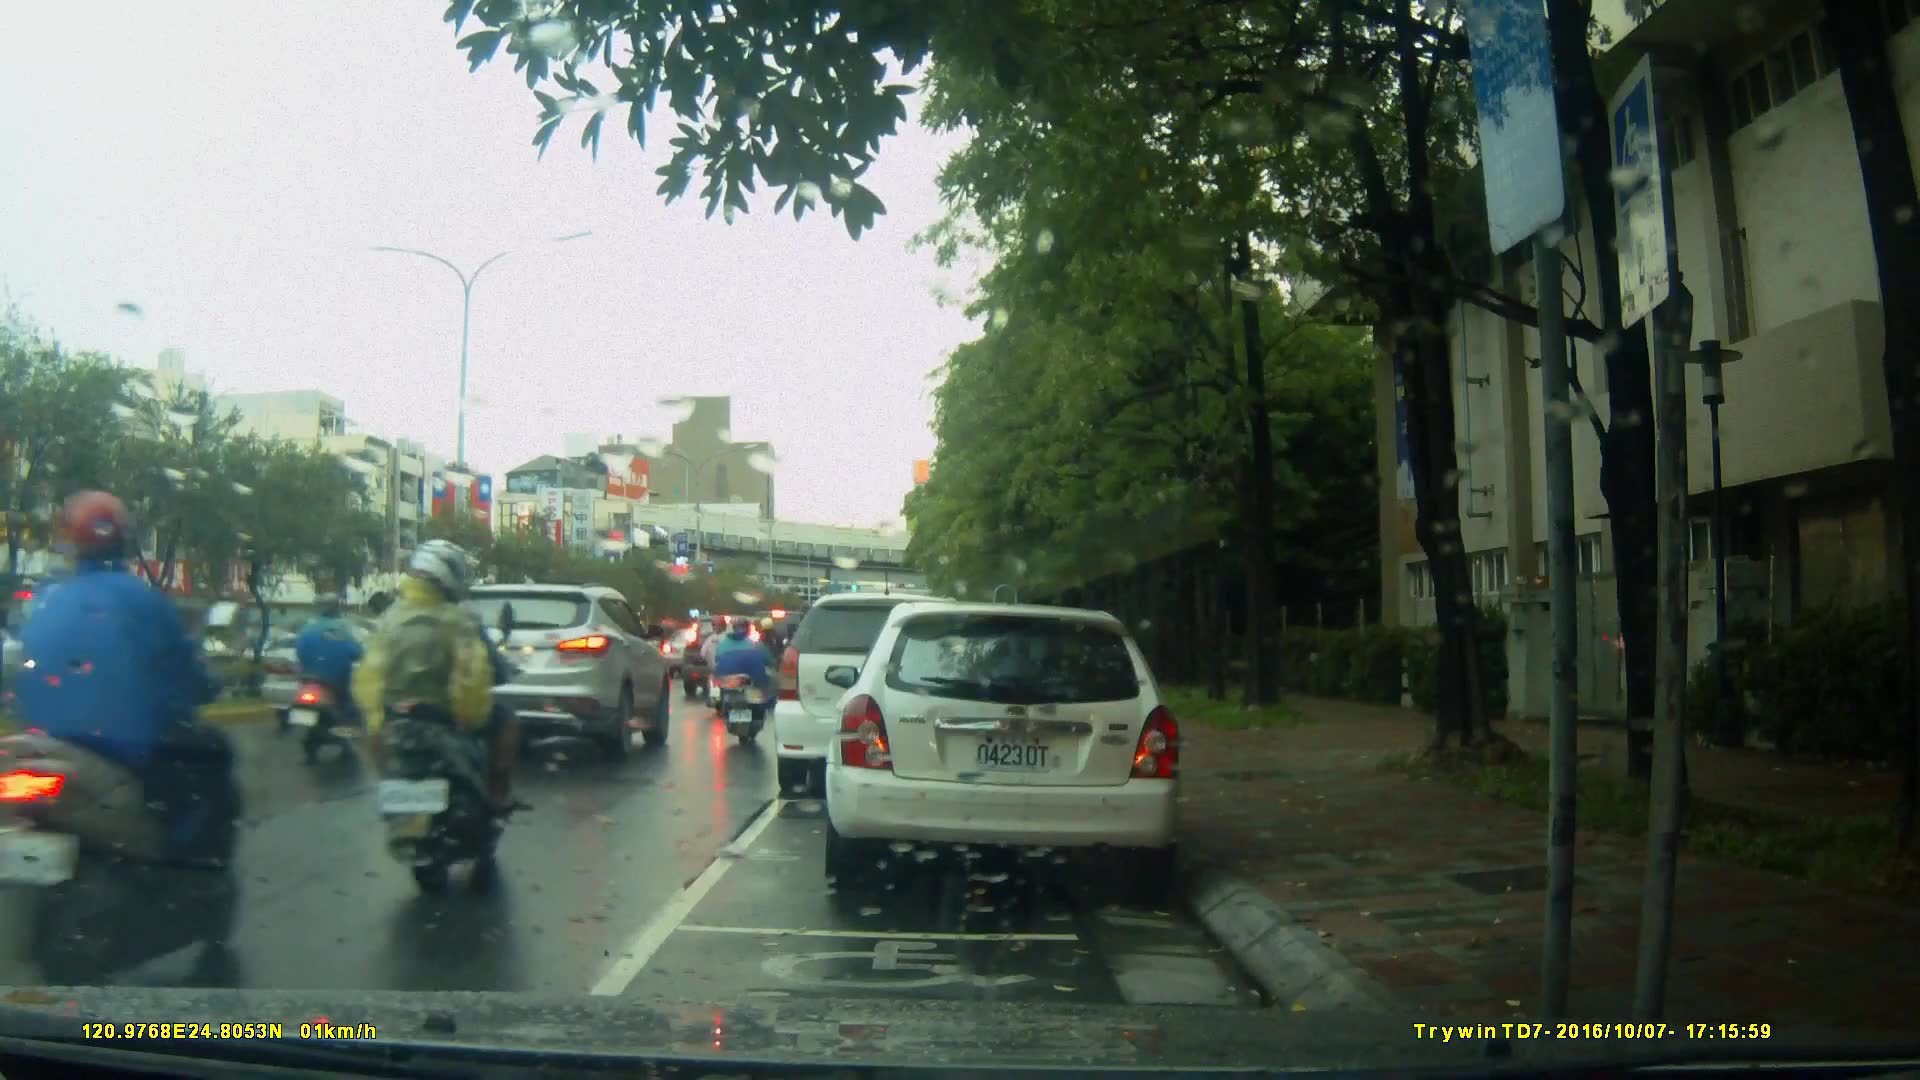rider: (1, 488, 239, 1028), (363, 542, 523, 883), (284, 583, 378, 767), (713, 613, 780, 748), (697, 610, 742, 724), (751, 618, 788, 703)
vehicle: (822, 604, 1188, 883), (400, 578, 670, 767), (774, 595, 995, 802), (20, 576, 168, 697), (681, 614, 766, 703)
